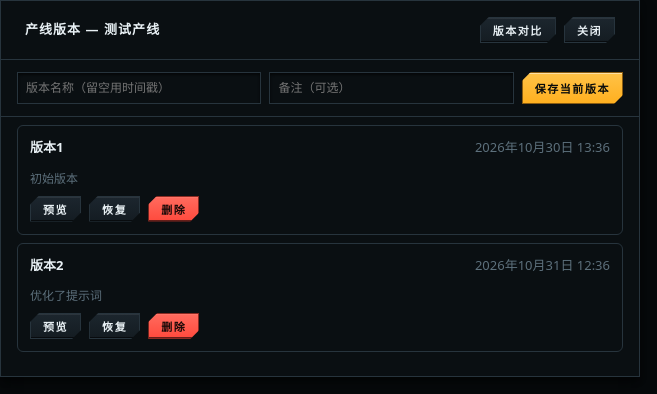
Test: VersionPanel › 保存版本 › 保存中按钮显示'保存中...'
Click the button "保存当前版本": [572, 88] box [522,72,623,104]
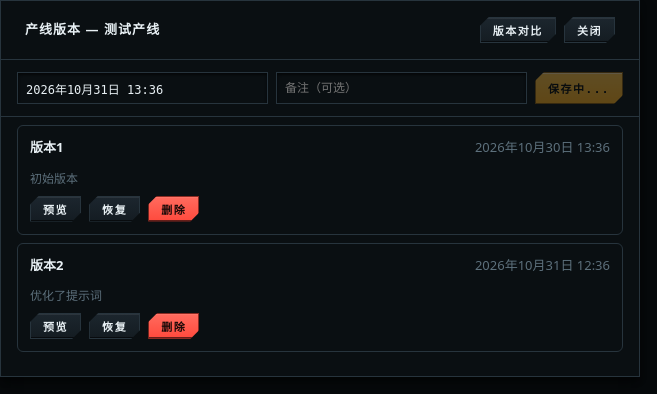
Now the button "保存中..." is shown, box [535,72,623,104]
